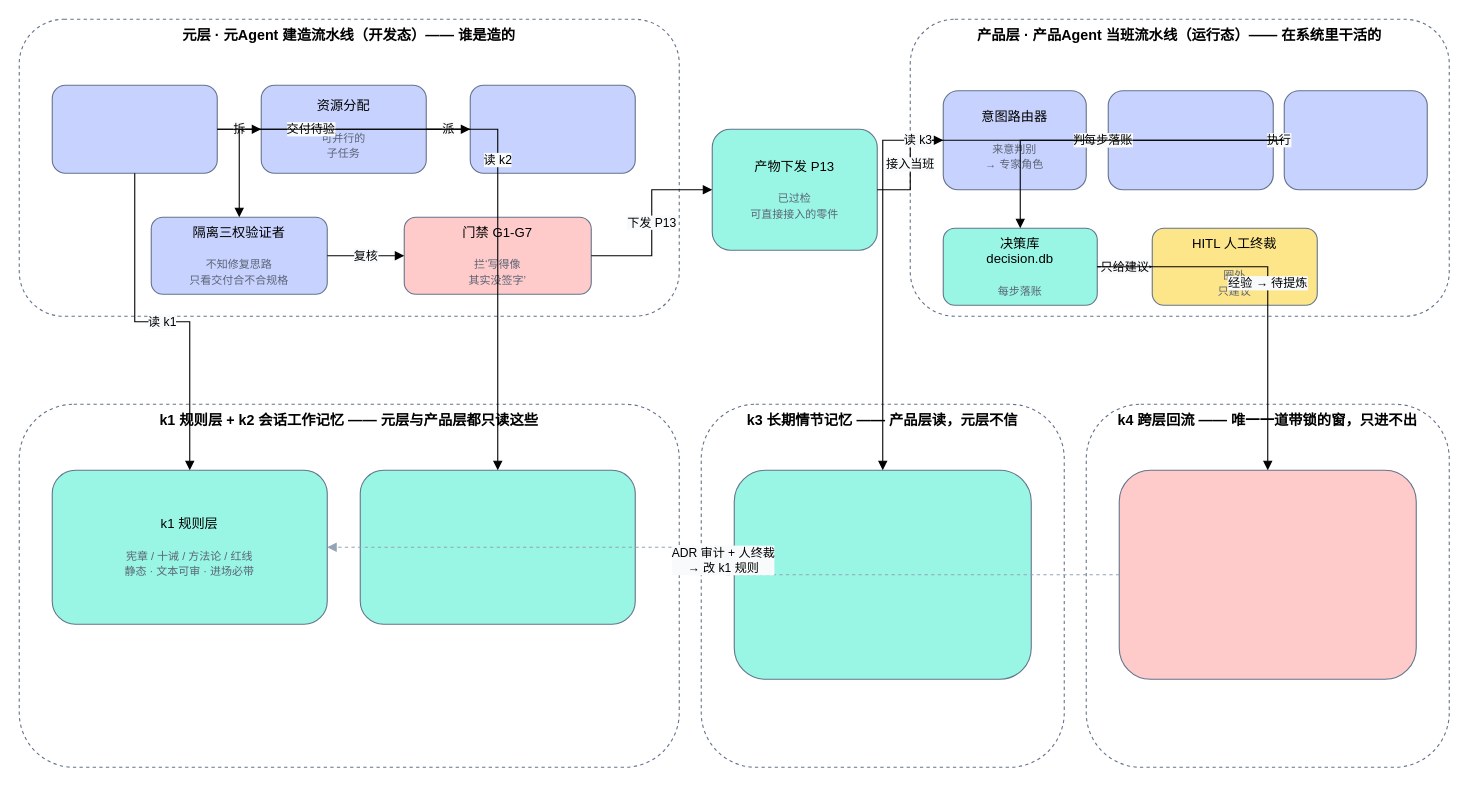
Some shapes in this 1469 by 787 pixel diagram are drawn without their labels. Here are the shapes that lost their labels. From the top down, the centre of each, then its label:
point 134,128: 规划角色 WBS 拆单 带验收口径
point 552,128: 无状态执行 子 Agent 不背历史 只跑当下
point 1190,140: 9 角色注册表 多 Agent 专家
point 1355,140: 顺序链路 / 隔离对抗 快路径 与对抗并行
point 497,546: k2 会话工作记忆 滑动窗口摘要 只管‘这一场’
point 882,574: k3 长期情节记忆 偏好 / 策略上下文 / 标的 / 裁决 溯源 · 置信度 · 去重哈希
point 1267,574: k4 单向回流管道 经验 → ADR 审计 → 人终裁 → 升格 k1 · 可回滚
